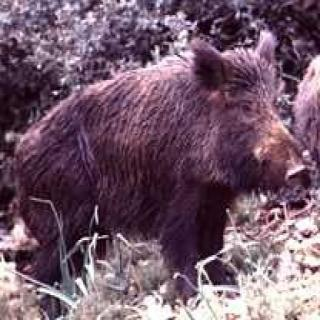Pig: (0, 25, 311, 320)
